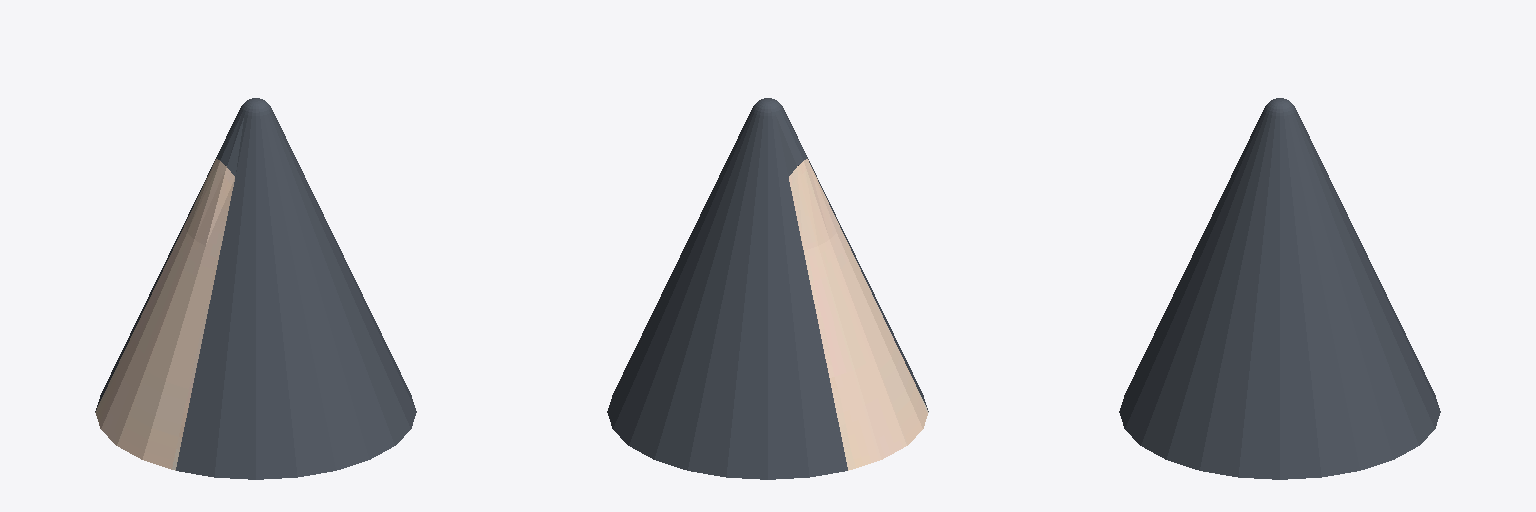
The picture shows the model from 3 angles: view 1: azimuth 30°, elevation 25°; view 2: azimuth 150°, elevation 25°; view 3: azimuth 270°, elevation 25°; orthographic projection.
Visible parts, largest first — view 1: Object003; view 2: Object003; view 3: Object003.
Boxes of the visible parts, x1,y1,x2,y2 form: Object003: [95, 98, 416, 479]; Object003: [607, 98, 928, 479]; Object003: [1119, 98, 1440, 479].
Size of the model in its own units: 14 by 15 by 14.
Materials: 1 (1 with a texture image).